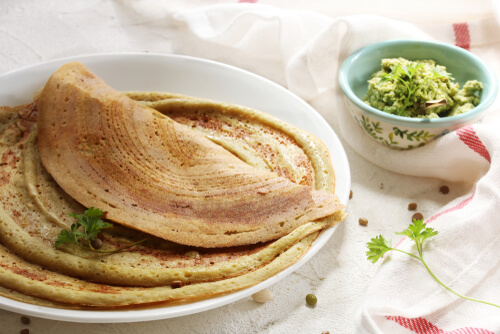dosa: (1, 62, 348, 310)
